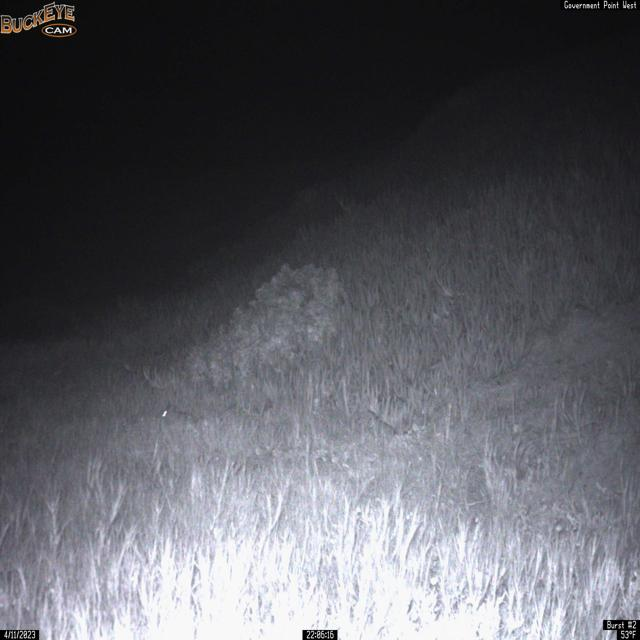rodent: (157, 402, 202, 431)
